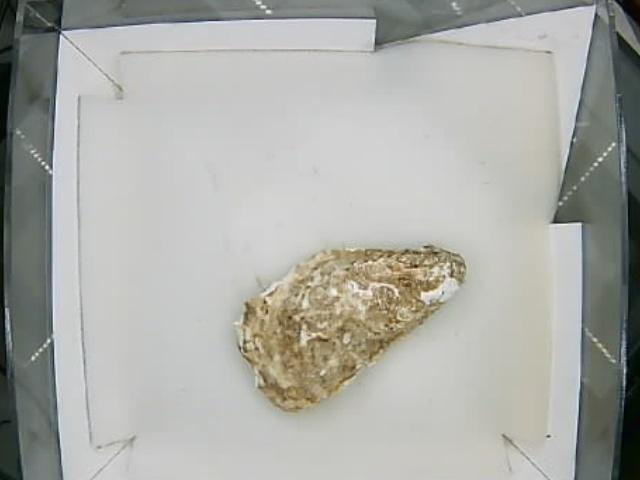Shell: (232, 246, 465, 412)
